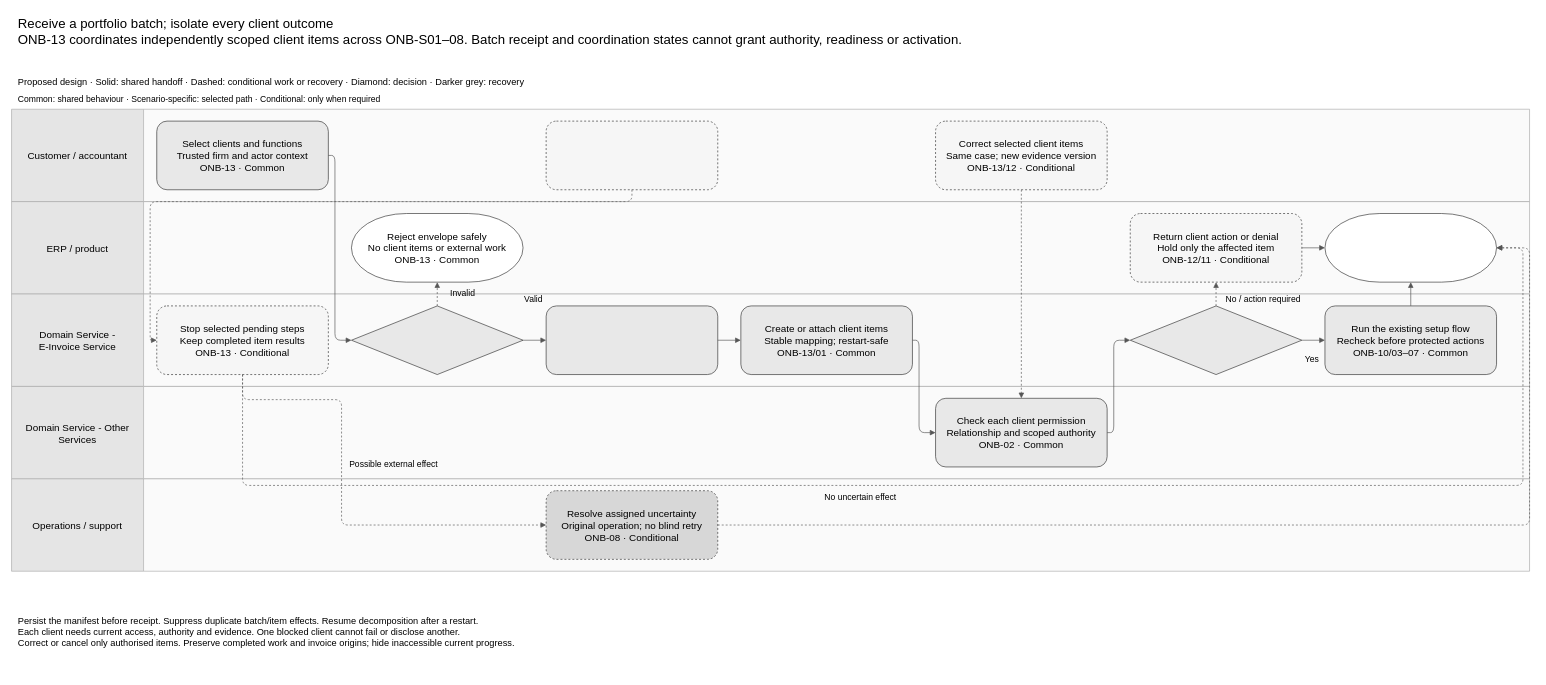
Image size: 1546x685. Some labels were removed from this diagram. Each missing label, with the centre of its shape:
Cancel selected pending work Recheck each item permission ONB-13 · Conditional: point (631, 155)
Item can proceed? ONB-02 · Common: point (1216, 340)
Persist receipt and manifest Durable acceptance; not readiness ONB-13 · Common: point (631, 340)
Return permitted progress Current access; independent results ONB-13/11 · Common: point (1410, 247)
Valid batch envelope? ONB-13 · Common: point (437, 340)
